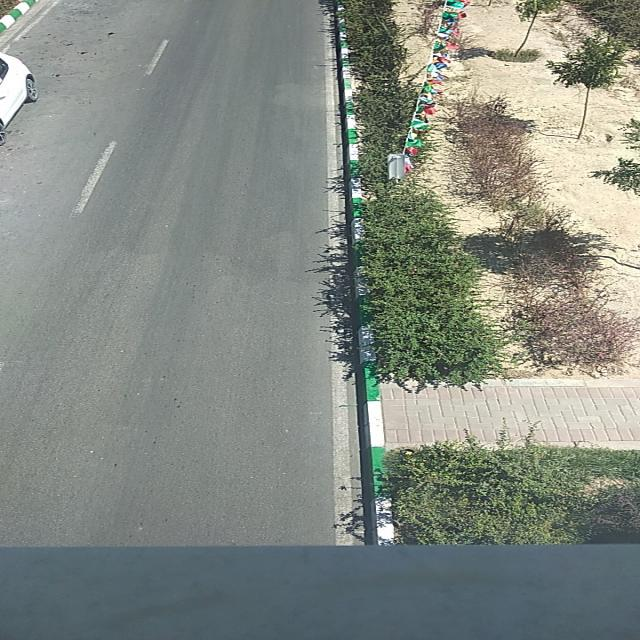car: (0, 51, 36, 147)
